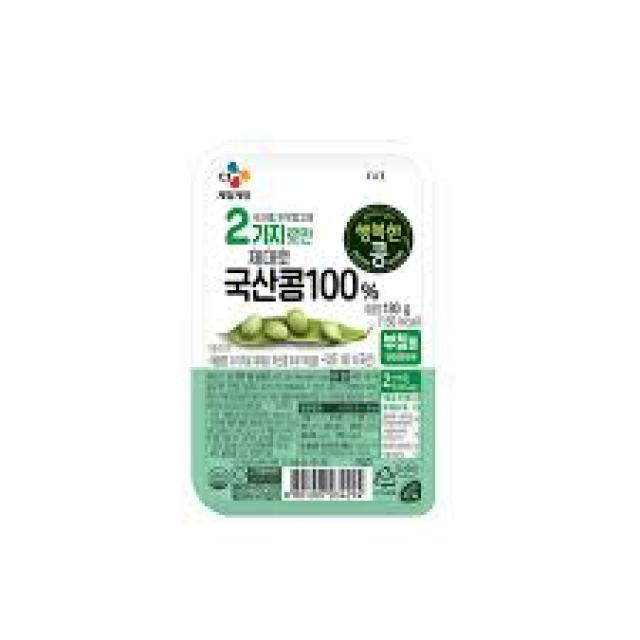tofu: (172, 127, 449, 532)
